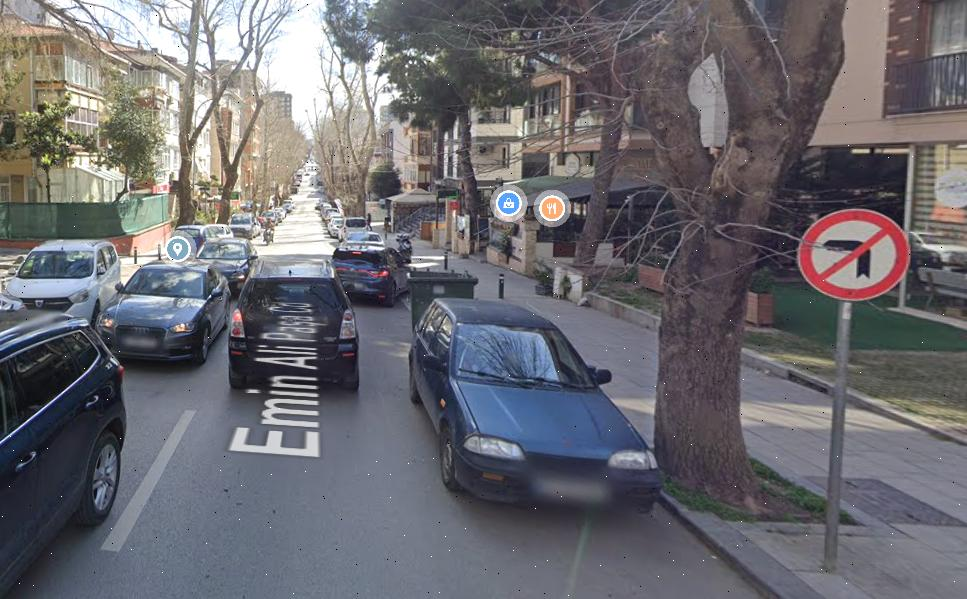leftturnsareforbidden: (799, 206, 909, 299)
